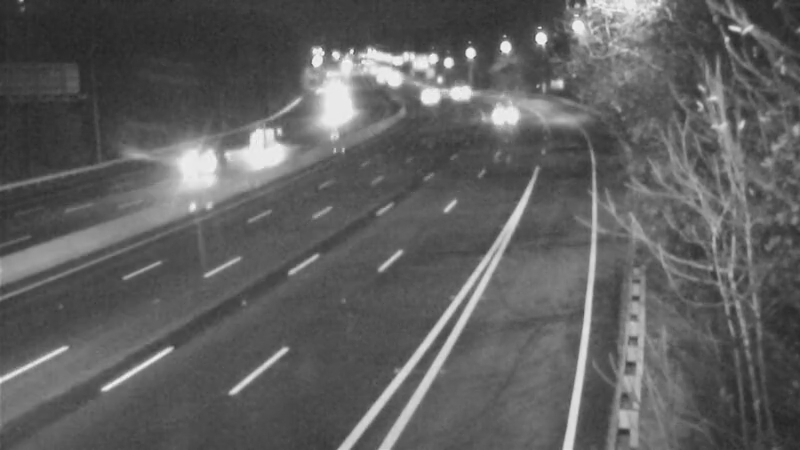vehicle: (148, 123, 228, 203), (400, 69, 450, 119), (435, 66, 485, 116), (475, 87, 525, 137), (244, 116, 294, 166)
